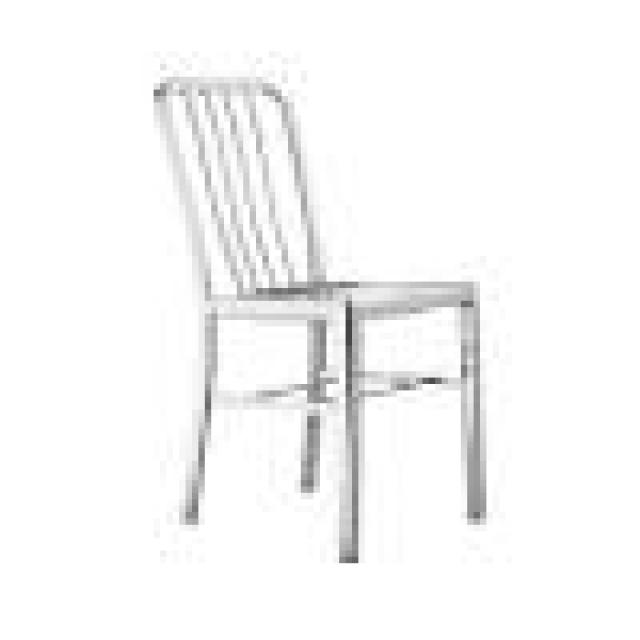chair: (84, 54, 510, 608)
